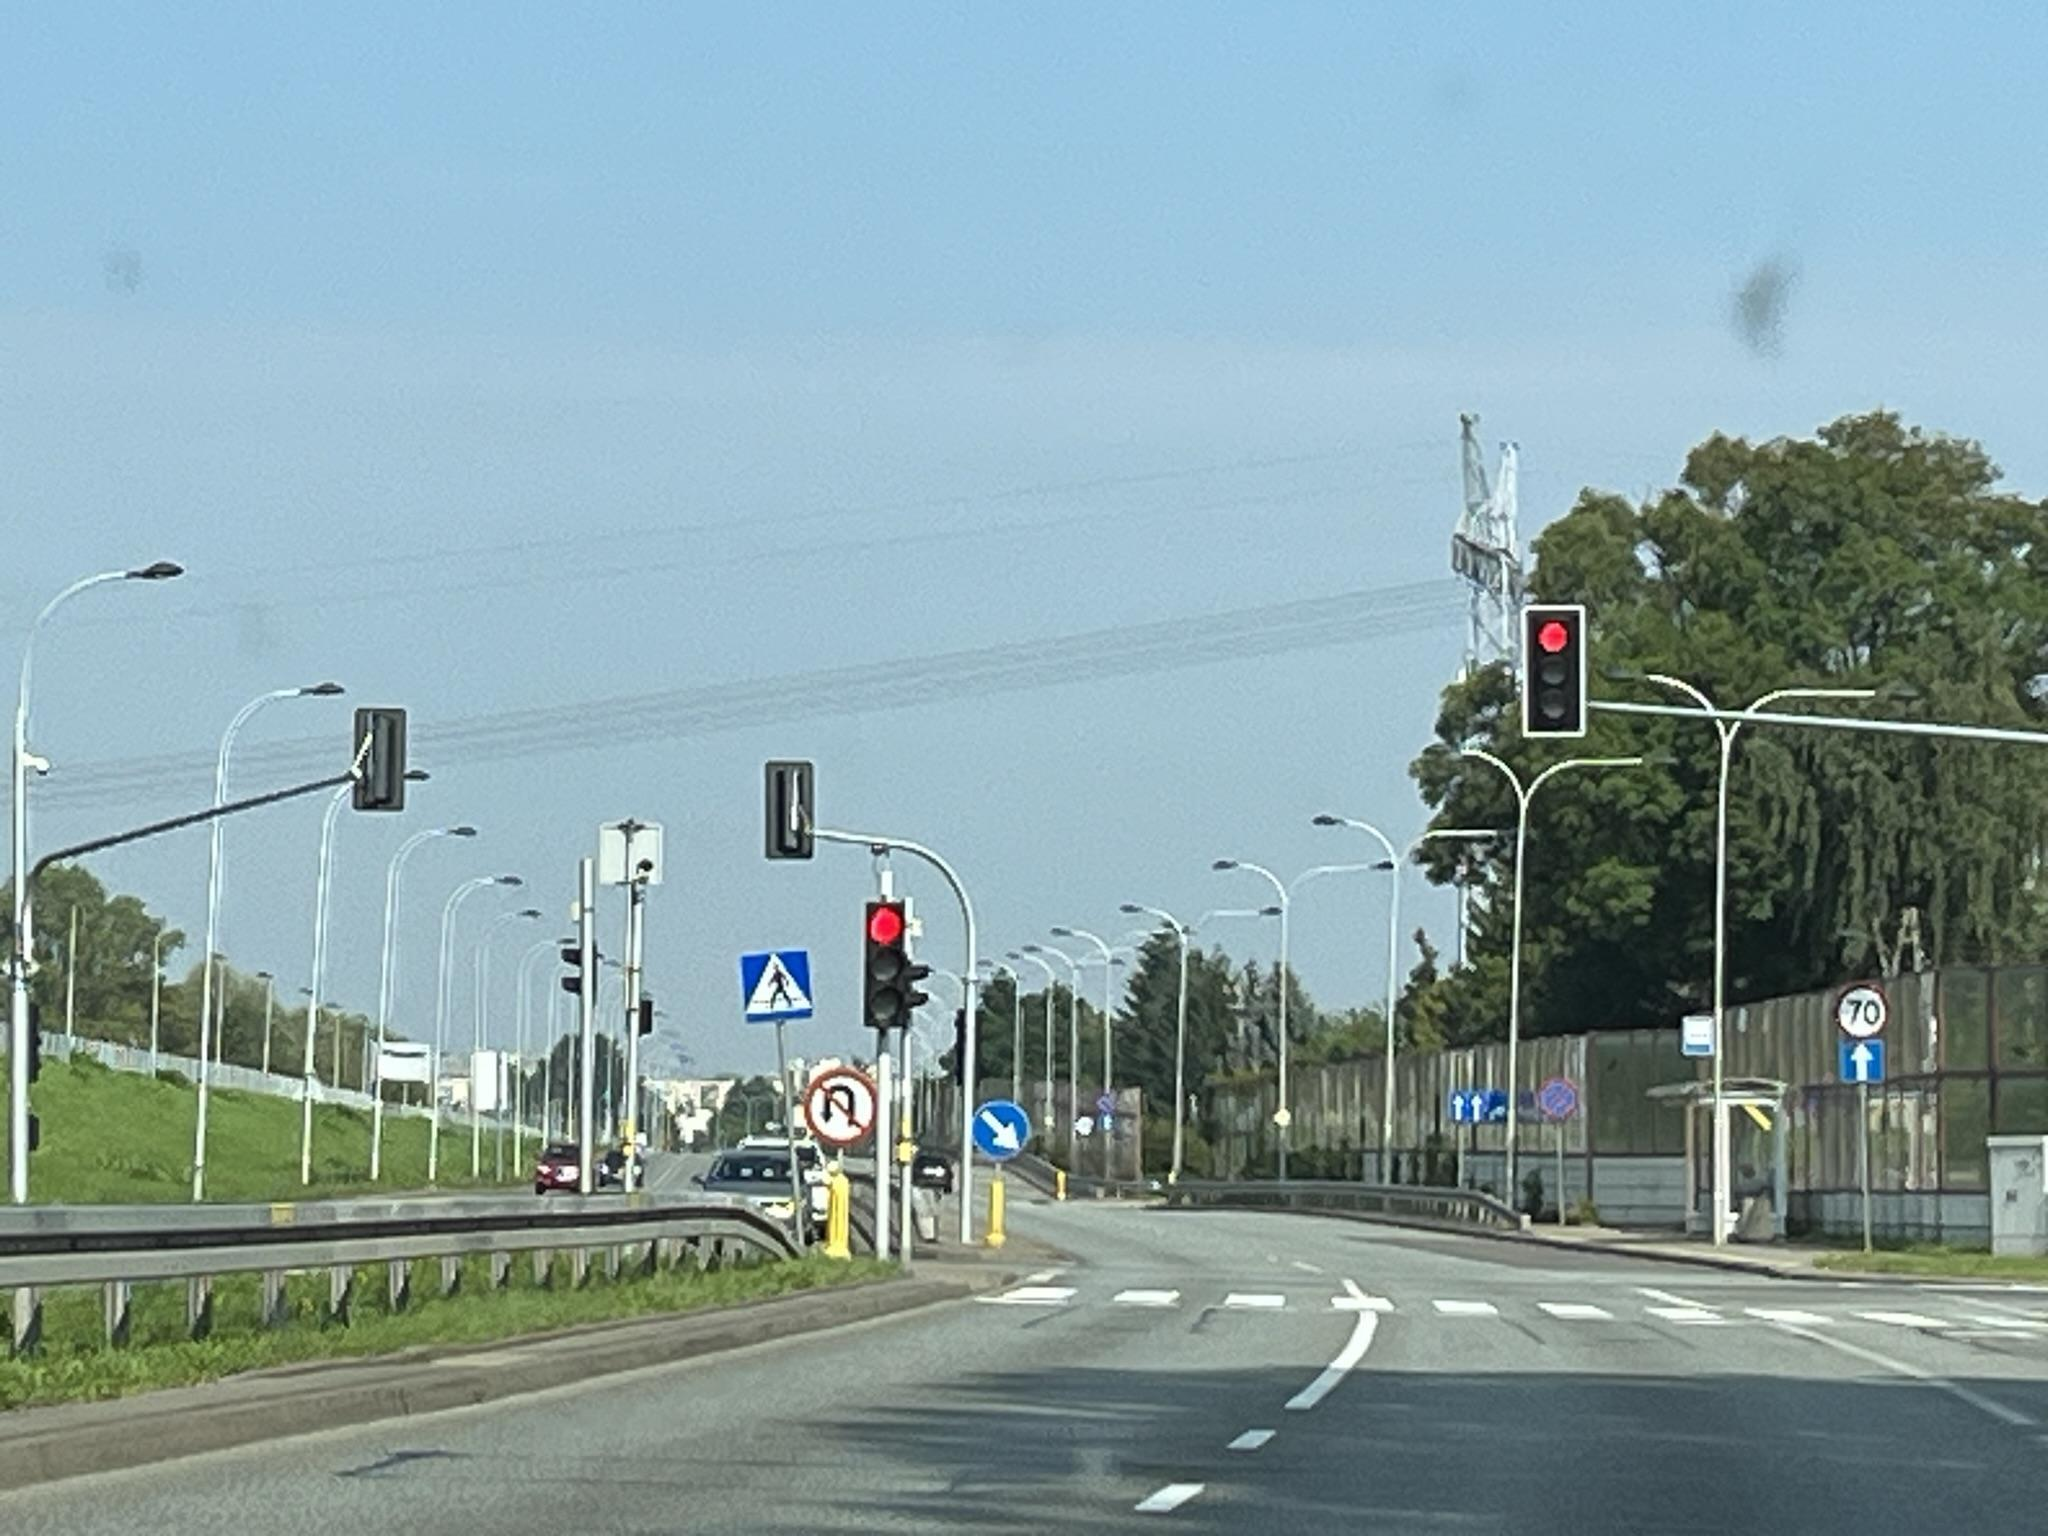information: (740, 951, 811, 1023), (1841, 1043, 1884, 1082)
mandatory: (974, 1099, 1032, 1161)
prohibitory: (803, 1066, 878, 1146), (1833, 983, 1892, 1041), (1538, 1079, 1580, 1120)
